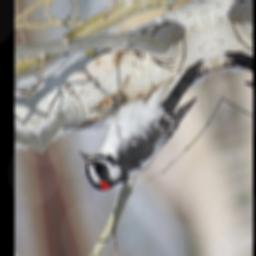Woodpecker: (66, 56, 225, 195)
